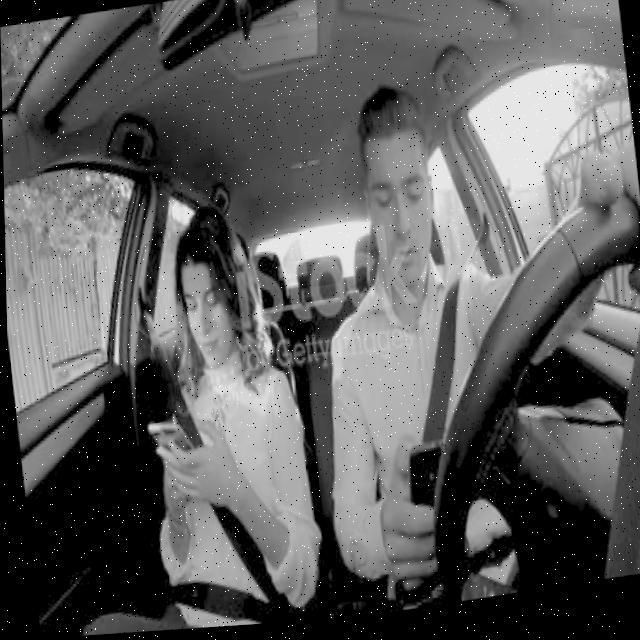PhoneCall: (402, 438, 453, 544), (138, 415, 192, 479)
